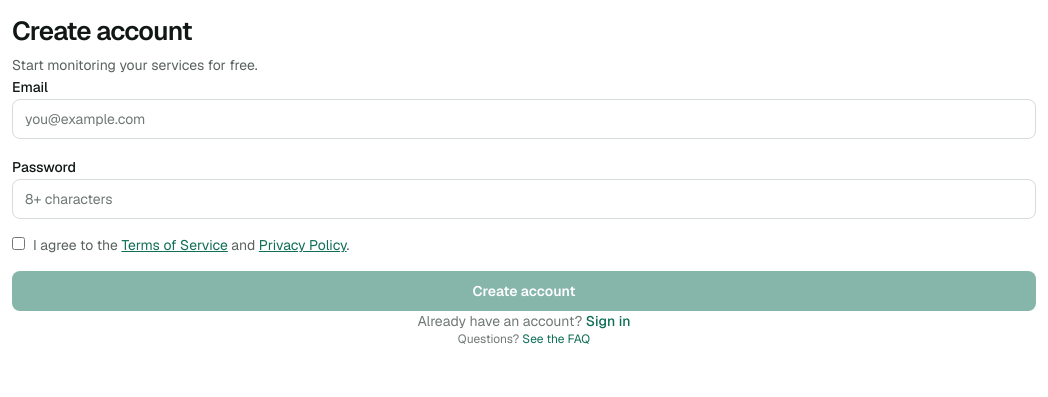
it: SignUpView › shows an account-exists message on a 409 error
Type "a@b.com" into the field with id "email" at (524, 119), box left=12, top=99, right=1036, bottom=139
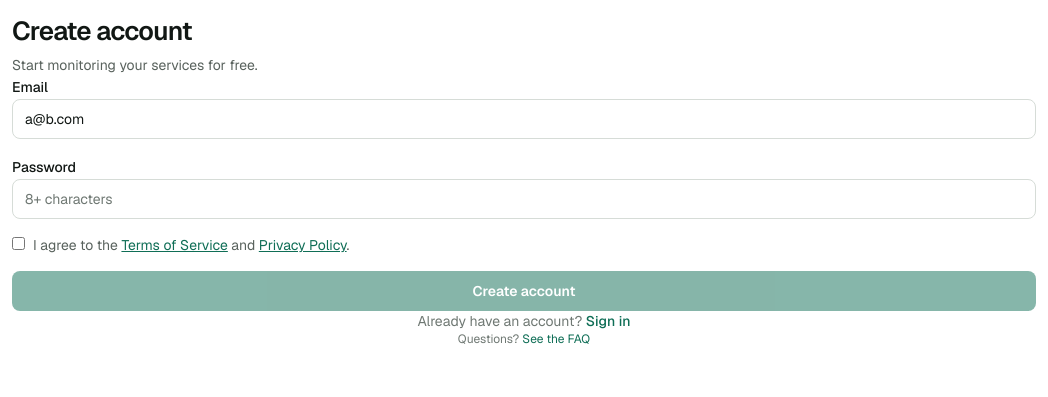
Type "password123" into the password field labelled "Password" at (524, 199), box left=12, top=179, right=1036, bottom=219
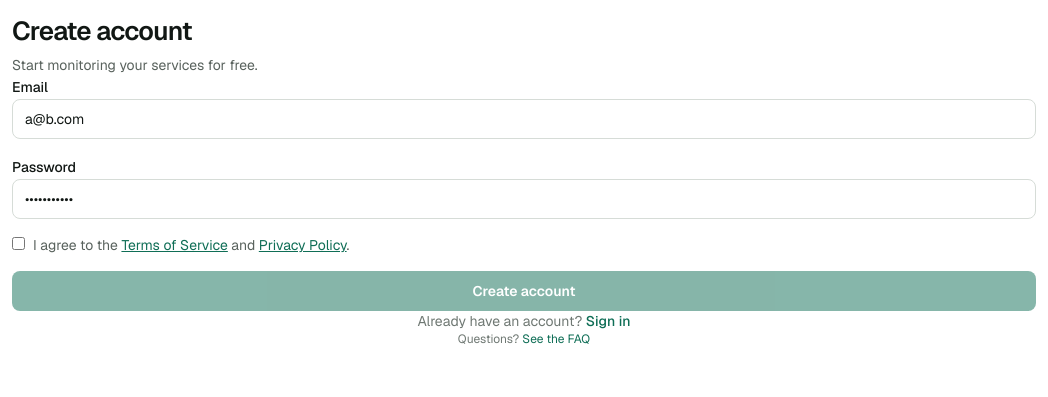
Click the checkbox labelled "I agree to the Terms of Service and Privacy Policy." at (18, 244), box left=12, top=237, right=25, bottom=250
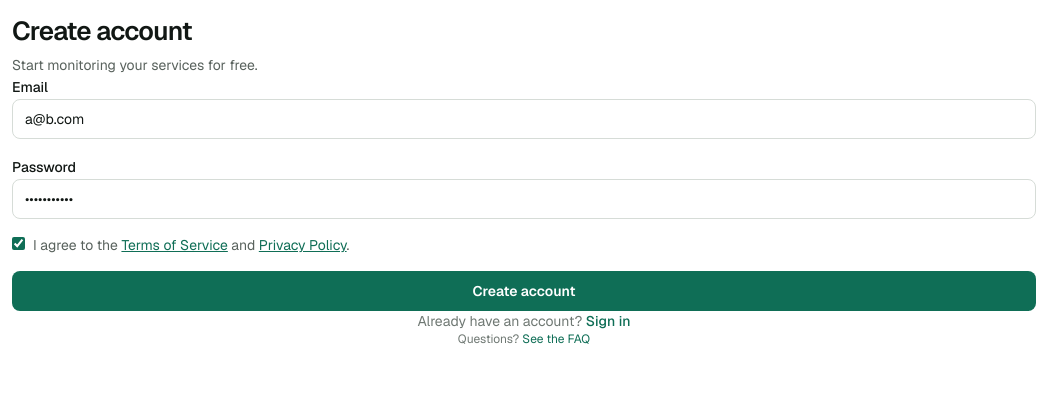
Submit the form, box left=12, top=75, right=1036, bottom=311
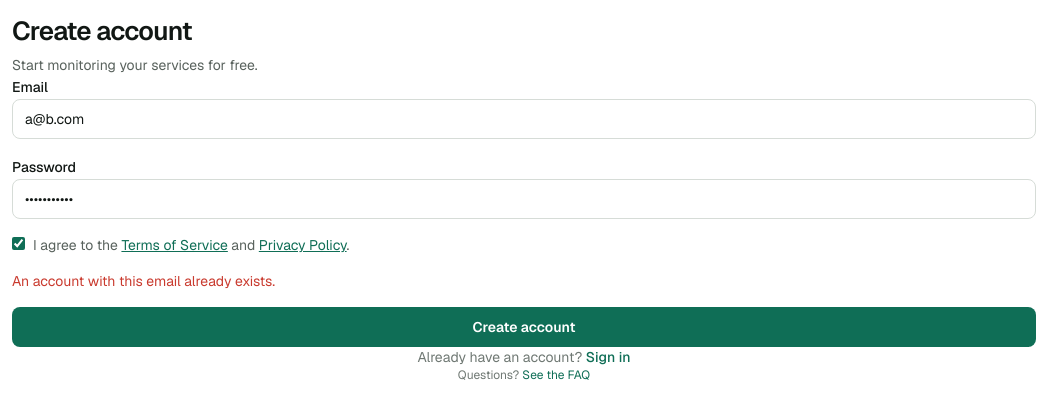
Result: the text "An account with this email already exists." is shown at left=12, top=272, right=275, bottom=290
